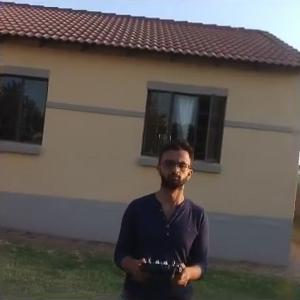follow: (108, 134, 213, 298)
